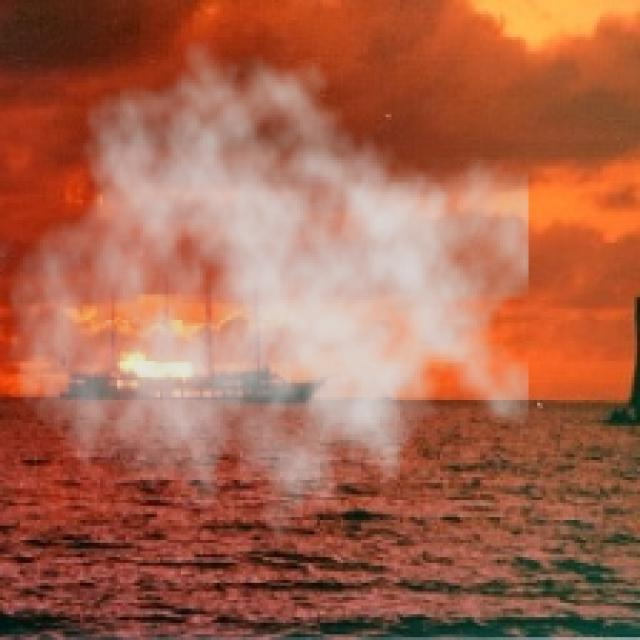Smoke: (6, 37, 528, 569)
